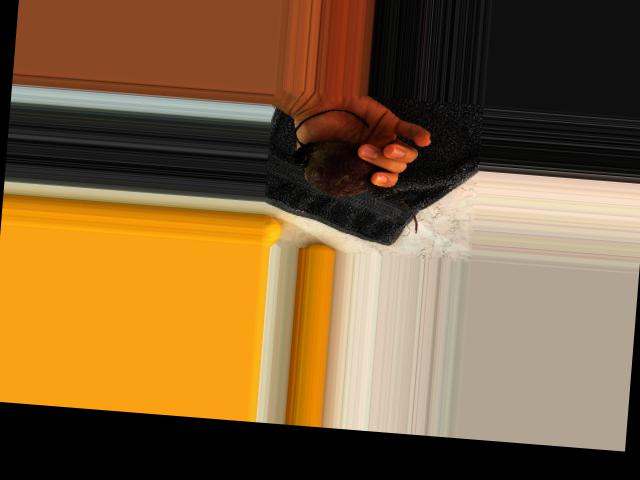beet: (288, 105, 426, 232)
